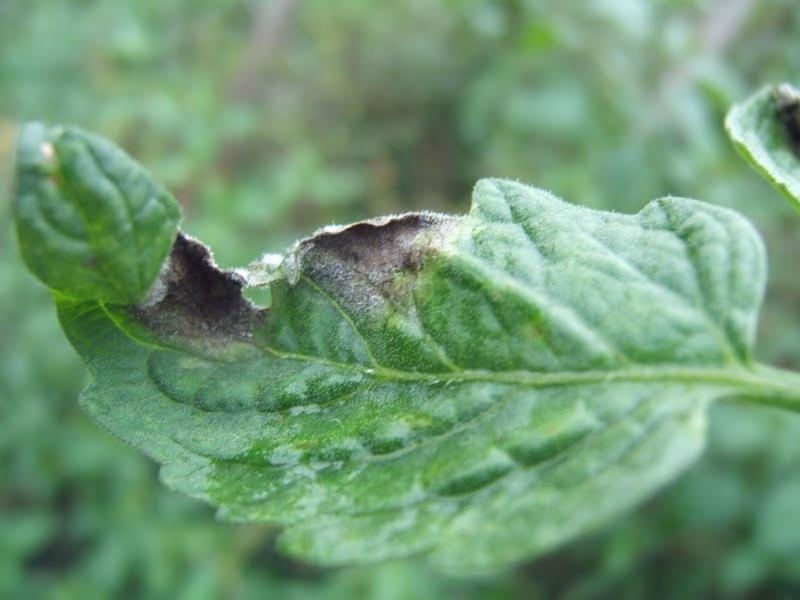Tomato leaf late blight: (13, 120, 769, 565)
